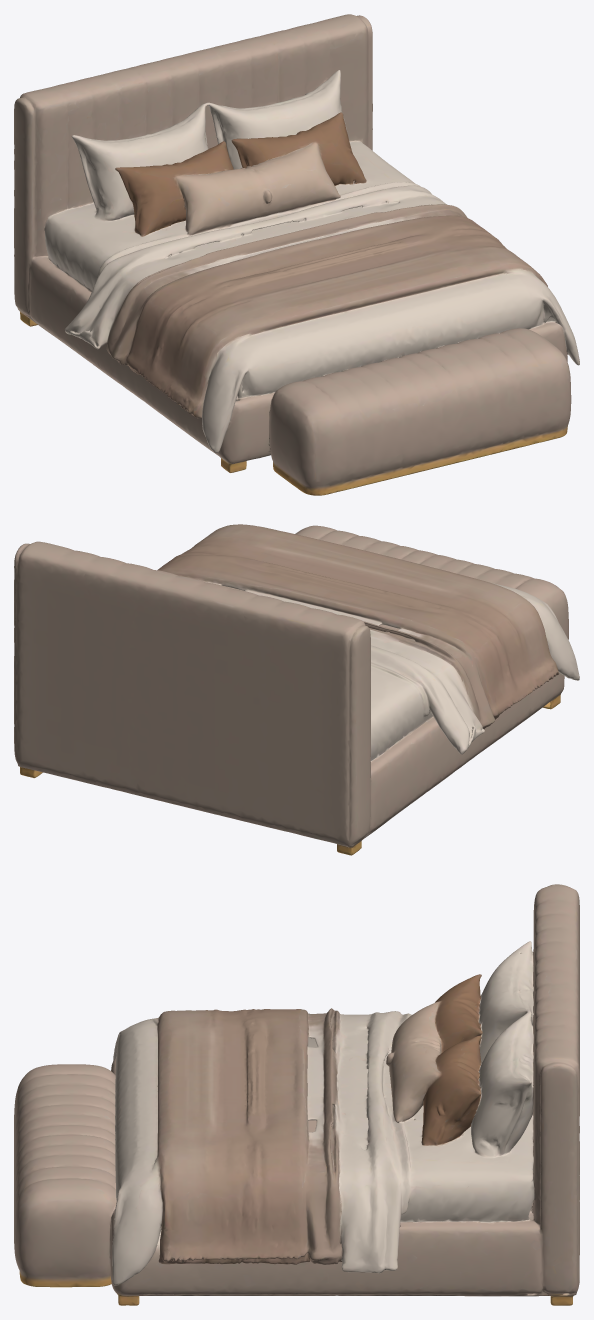
The model's file is Modern Upholstered Channel-Tufted Platform Bed with Matching Bench [PS3fEF].glb.
3 renders of one model, top to bottom at view 1: azimuth 30°, elevation 25°; view 2: azimuth 150°, elevation 25°; view 3: azimuth 270°, elevation 25°, orthographic. The views are drawn at different scales.
Parts seen in each view (by area): view 1: world; view 2: world; view 3: world.
Part boxes in pixels (box(x1,y1,x2,y2)): world: box(14, 14, 579, 495); world: box(14, 524, 579, 855); world: box(14, 884, 579, 1305).
Size of the model in its own units: 0.8764 by 0.4841 by 1.
1 material, 1 textured.
